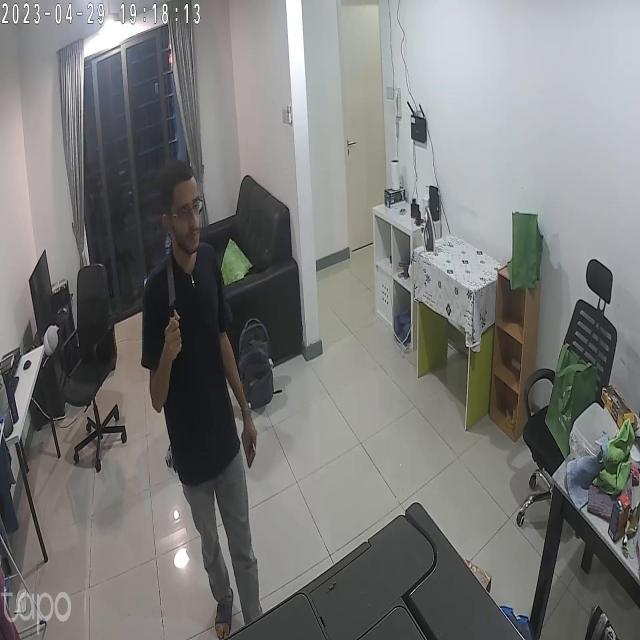Knife: (152, 246, 193, 321)
